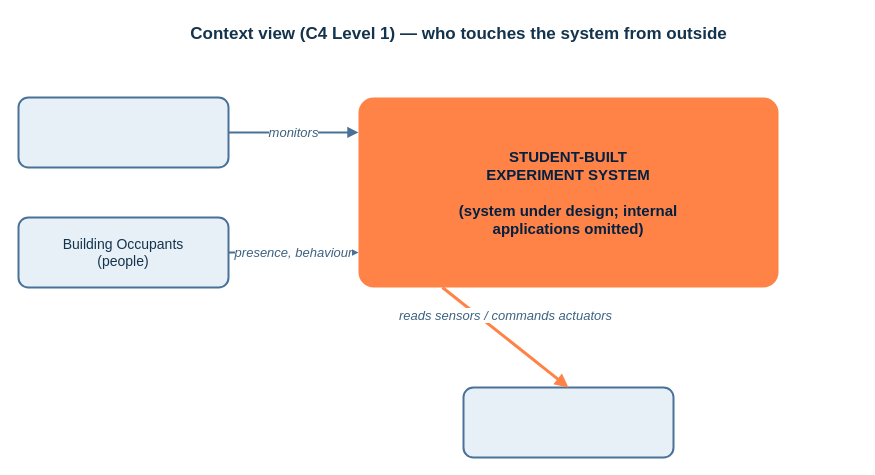
Some shapes in this 875 by 475 pixel diagram are drawn without their labels. The centre of each missing label's shape, as x and y in pixels:
Building Manager (person): point 123,132
BuildSim Server (external system): point 568,422
